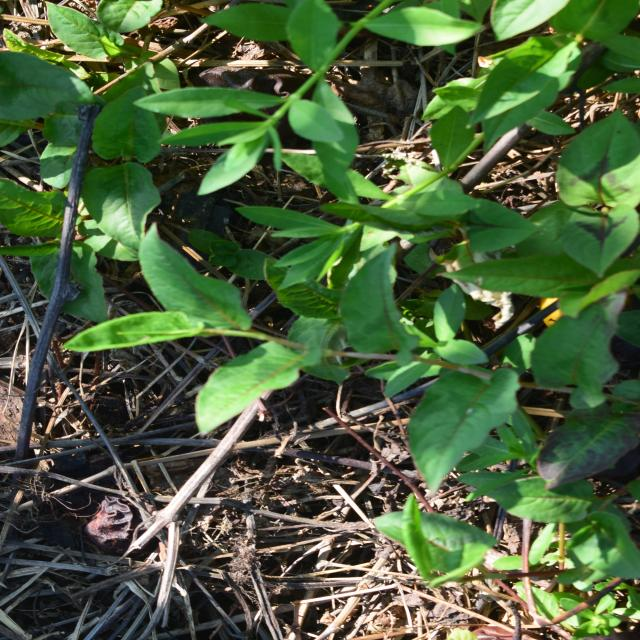Chinese_knotweed: (211, 74, 385, 444)
